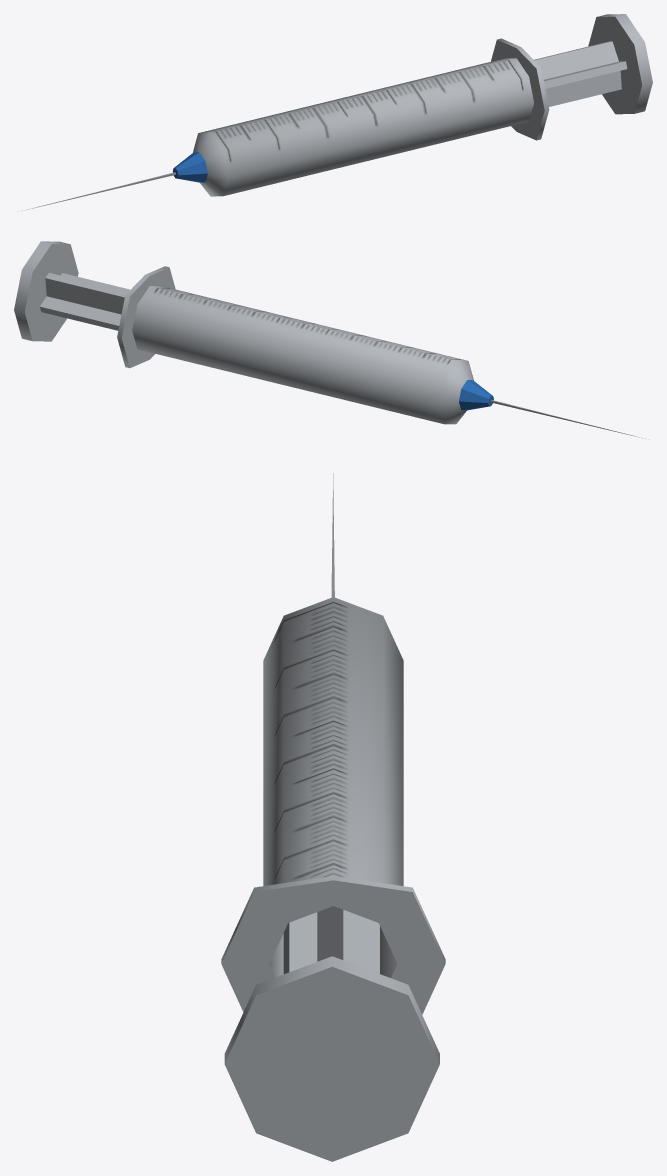
Rendered from syringe.FBX.
The picture shows the model from 3 angles, top to bottom: view 1: azimuth 30°, elevation 25°; view 2: azimuth 150°, elevation 25°; view 3: azimuth 270°, elevation 25°; orthographic projection. The views are drawn at different scales.
Visible parts, largest first — view 1: syringe; view 2: syringe; view 3: syringe.
Boxes of the visible parts, box(x1,y1,x2,y2) form: syringe: box(21, 14, 652, 211); syringe: box(14, 241, 642, 438); syringe: box(221, 473, 445, 1161).
Size of the model in its own units: 11.16 by 1.77 by 1.7.
